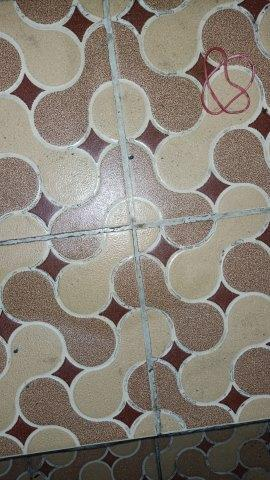karet: (201, 47, 255, 115)
